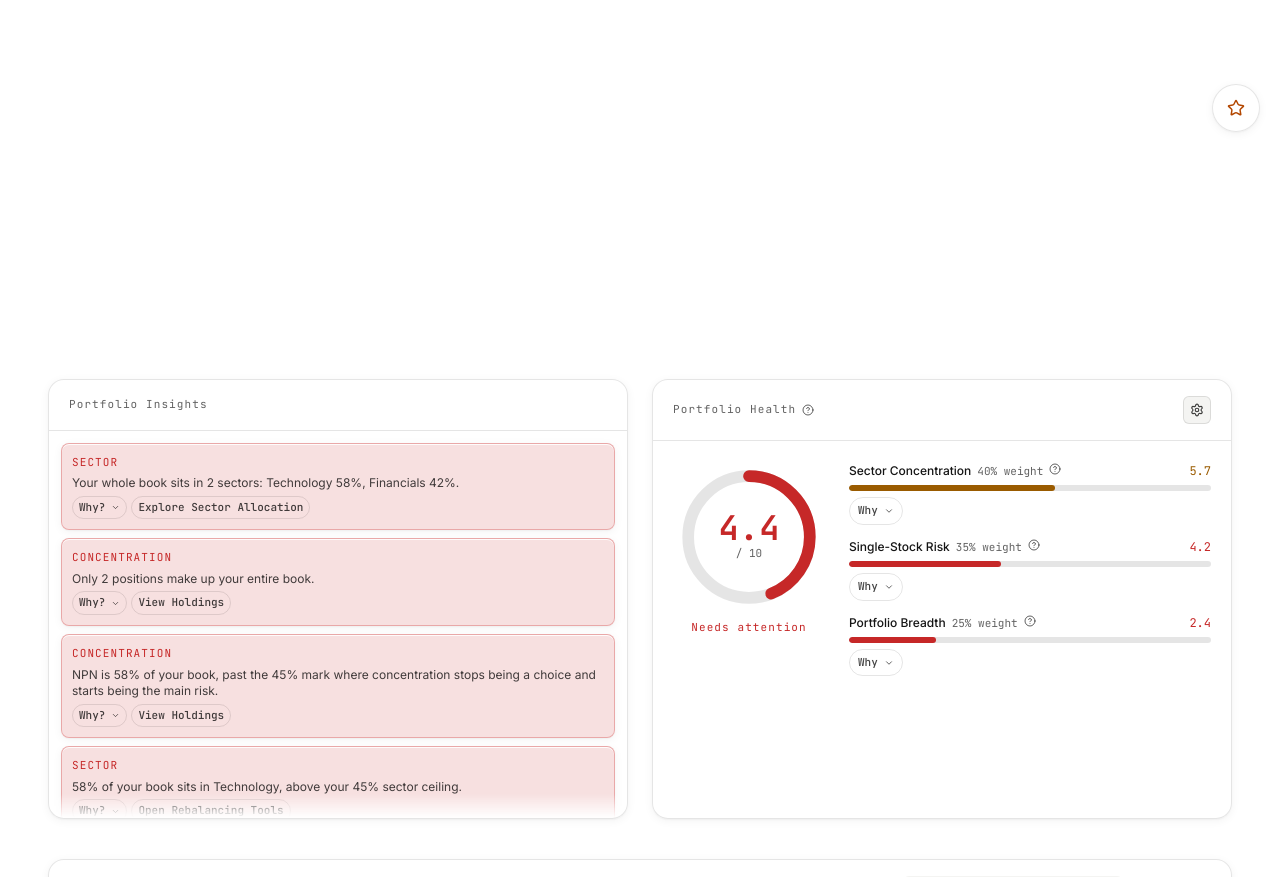
Test: Dashboard › renders the watchlist as a floating toggle, not an always-visible card
Expected: the text "ABG" is not shown
Click the button named "open watchlist" at (1236, 108), box [1212,84,1260,132]
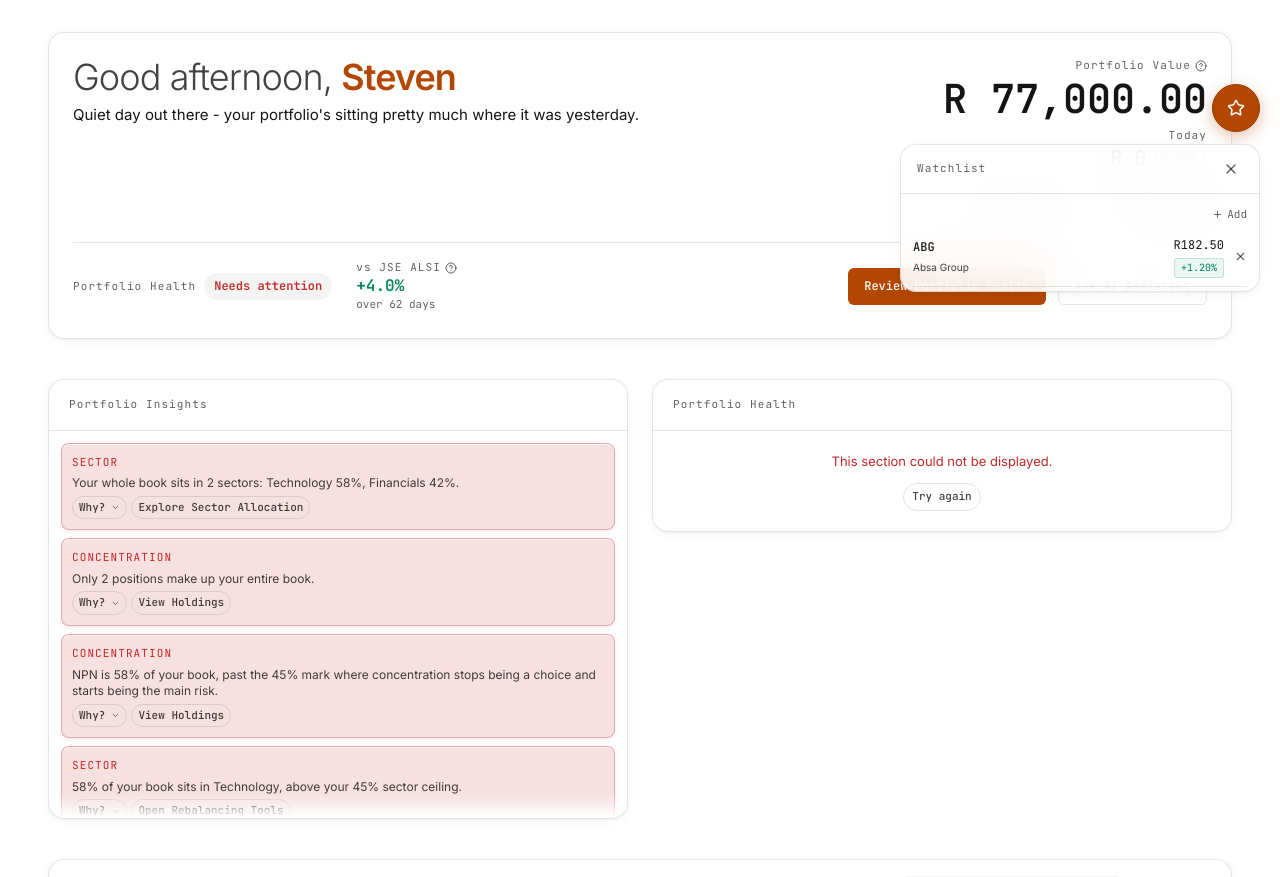
Now the text "Watchlist" is shown, box [917,160,986,178]
Now the text "ABG" is shown, box [913,239,935,255]
